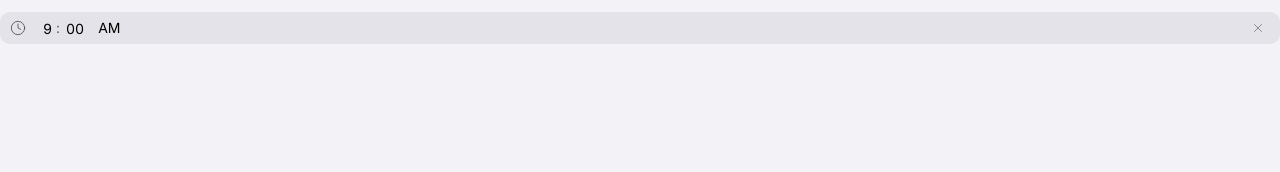
Test: typing › appends the second digit rather than replacing again
The width and height of the screenshot is (1280, 172).
Click the field named "minute" at (75, 28), box [64,12,86,44]
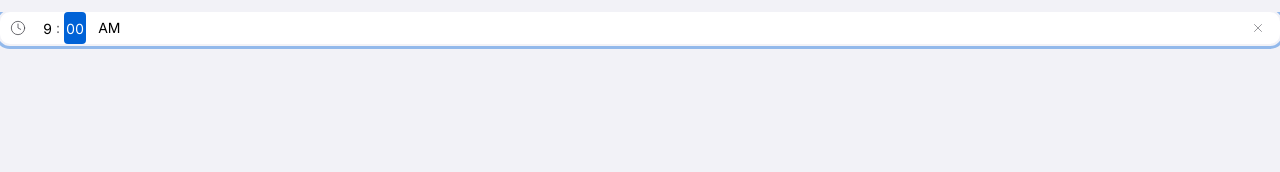
Type keys "4"
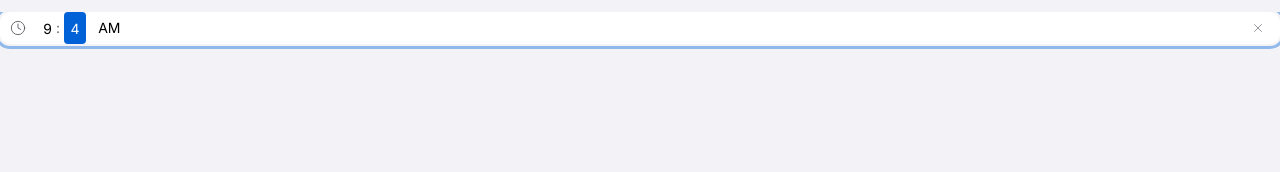
Expected: the field named "minute" holds "4", [64,12,86,44]
Type keys "5"
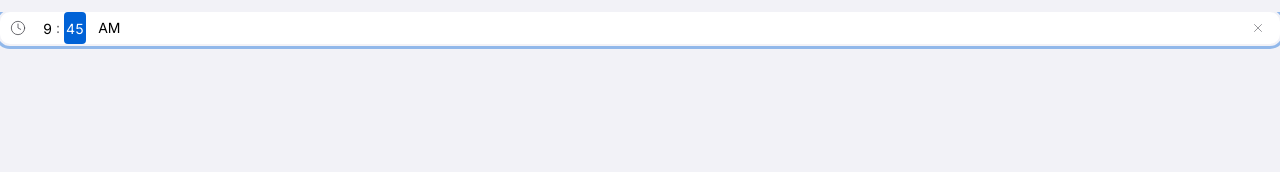
Expected: the field named "minute" holds "45", [64,12,86,44]
